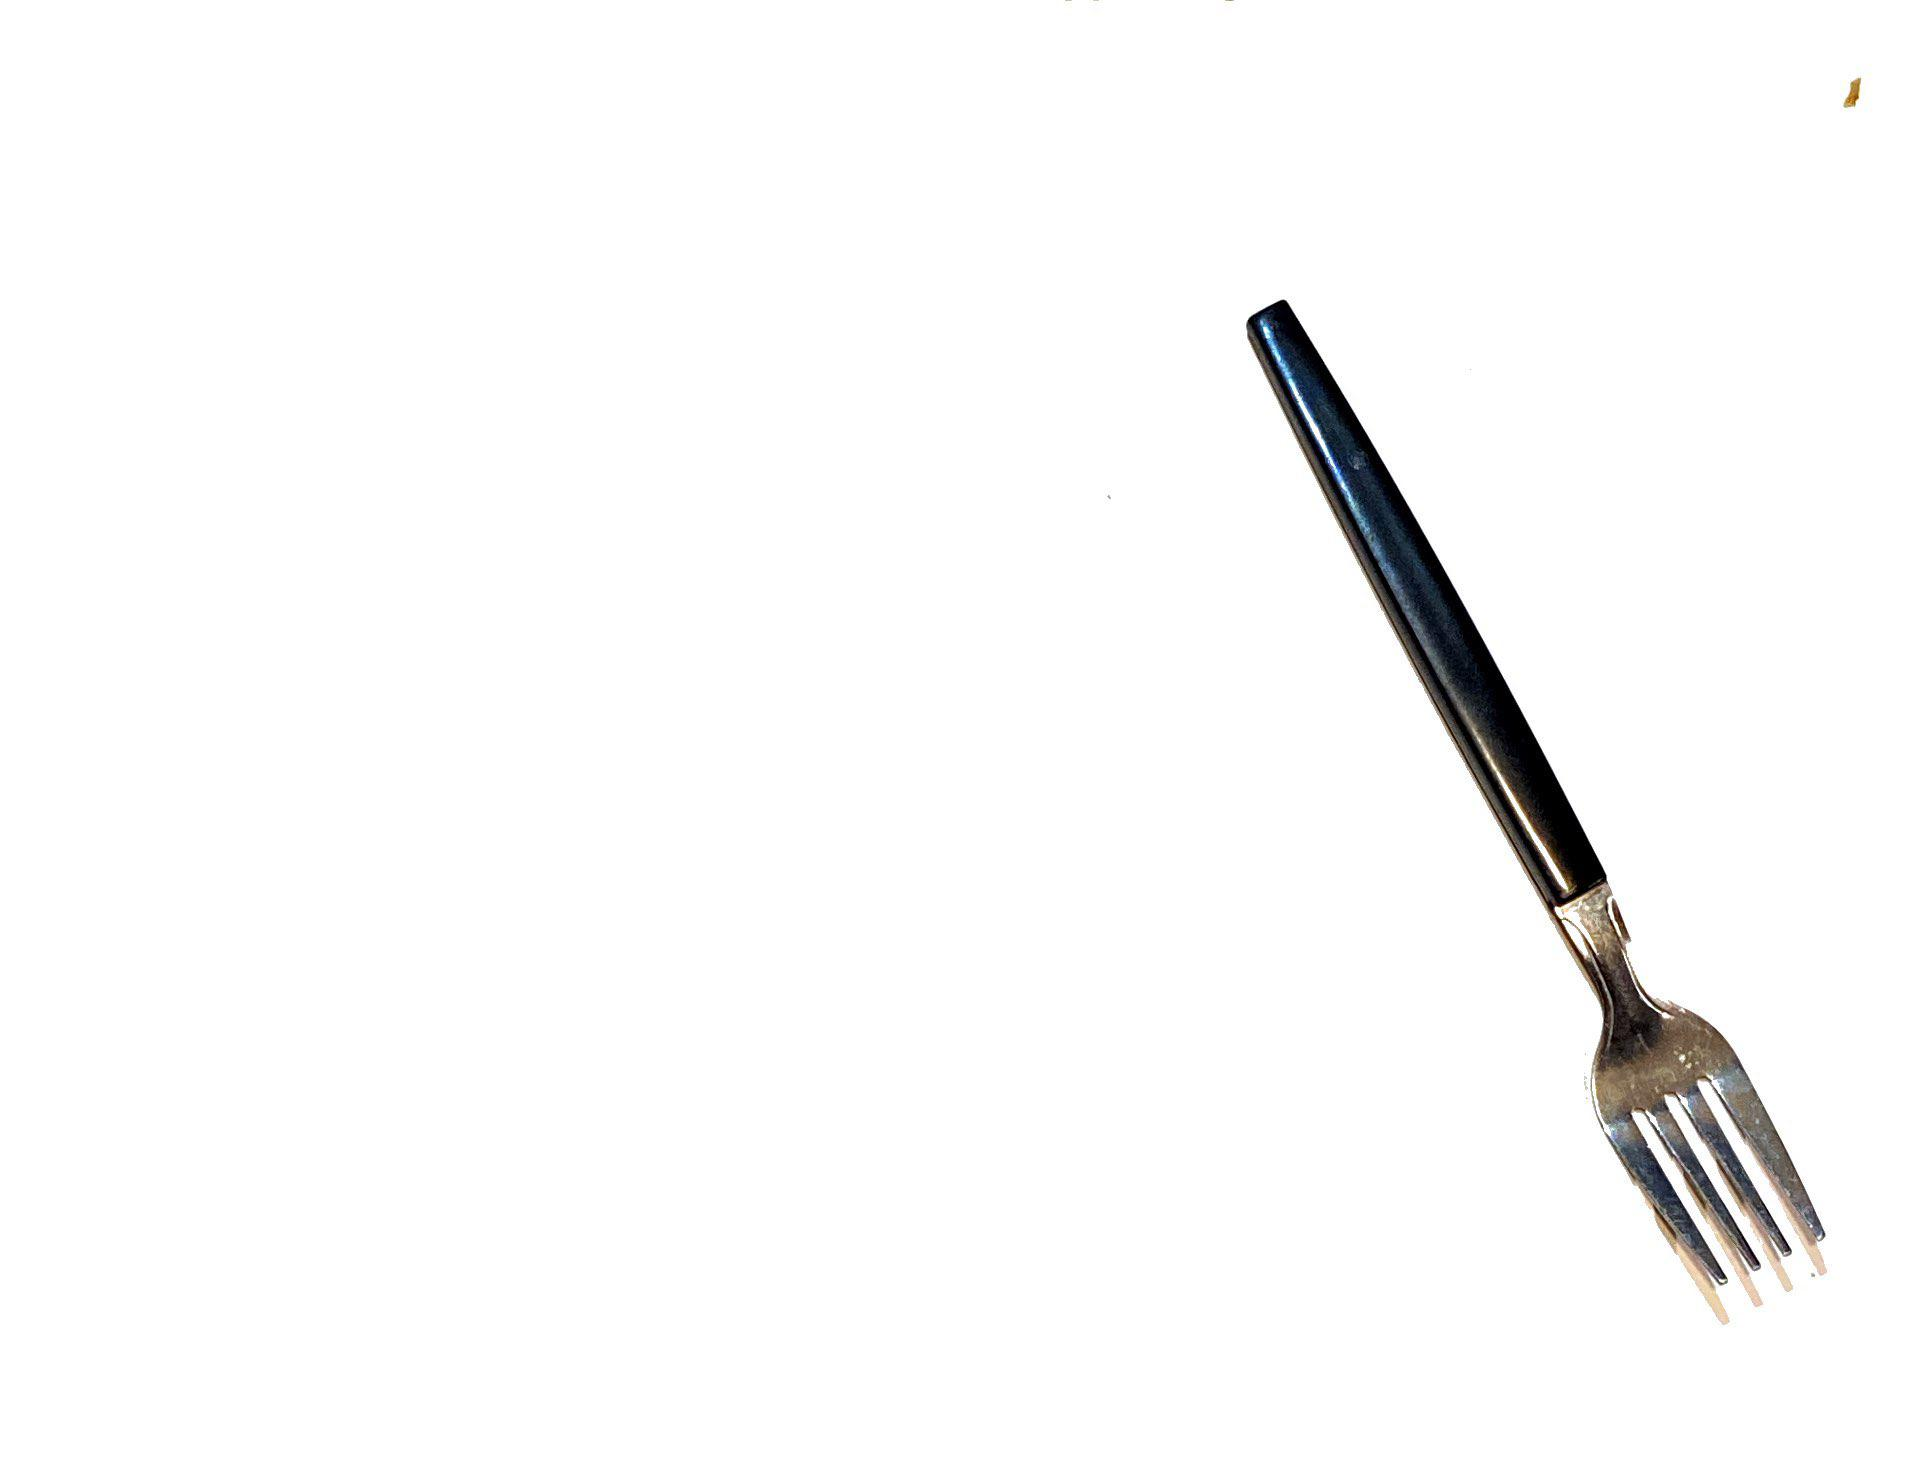Fork: (1191, 299, 1883, 1306)
